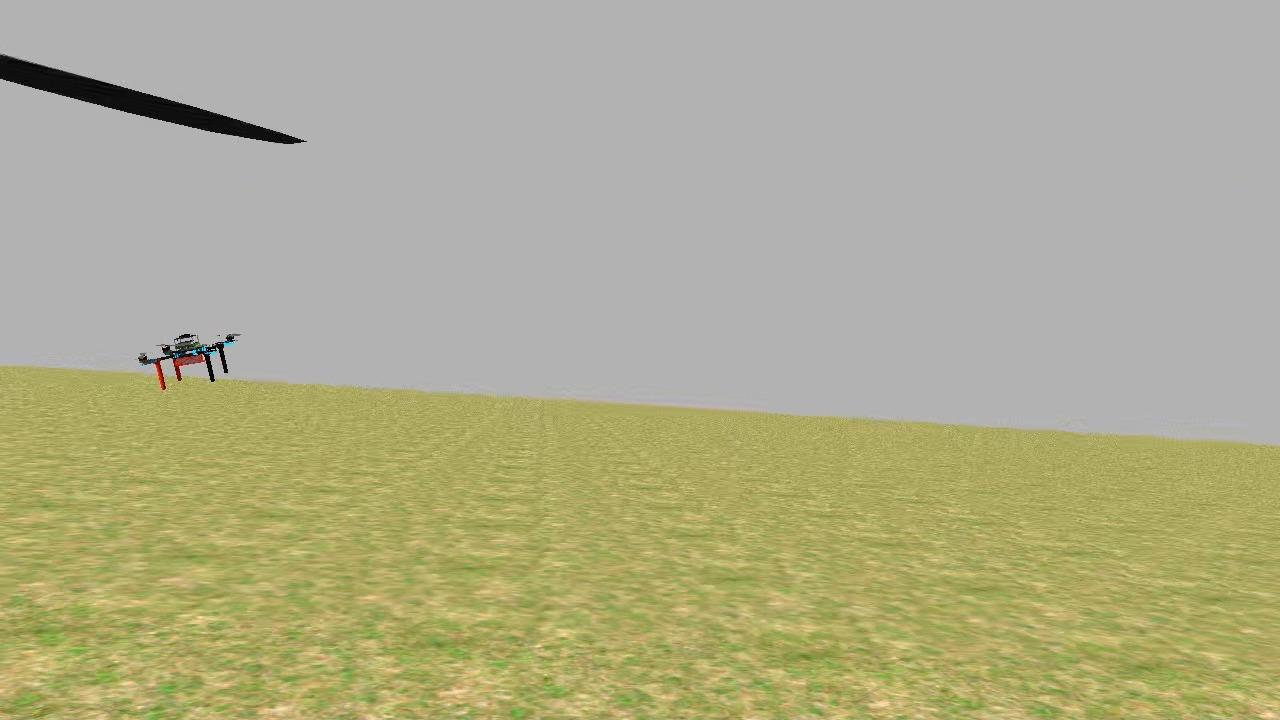UAV: (136, 322, 240, 395)
